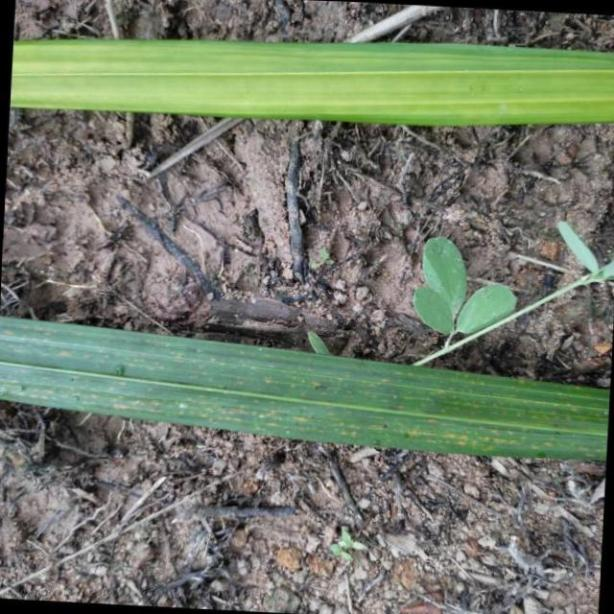nitrogen: (0, 313, 614, 459), (11, 43, 614, 126)
